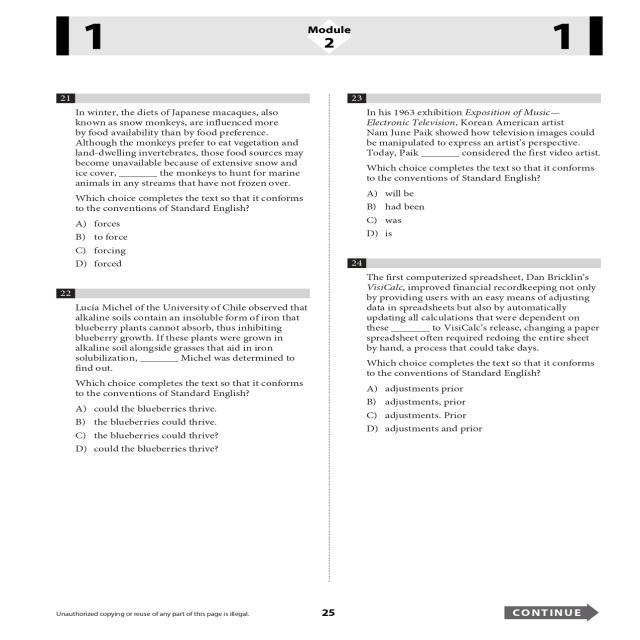Answer_Block: (338, 380, 614, 578), (49, 401, 324, 580), (338, 181, 614, 241), (49, 215, 324, 269)
Question_Answer_Block: (338, 256, 614, 578), (49, 285, 324, 580), (49, 89, 324, 269), (338, 89, 614, 241)
Question_Block: (49, 89, 324, 216), (338, 256, 614, 379), (49, 284, 324, 400), (338, 89, 614, 183)
Question_Paper_Area: (49, 90, 324, 580), (338, 90, 614, 578)
